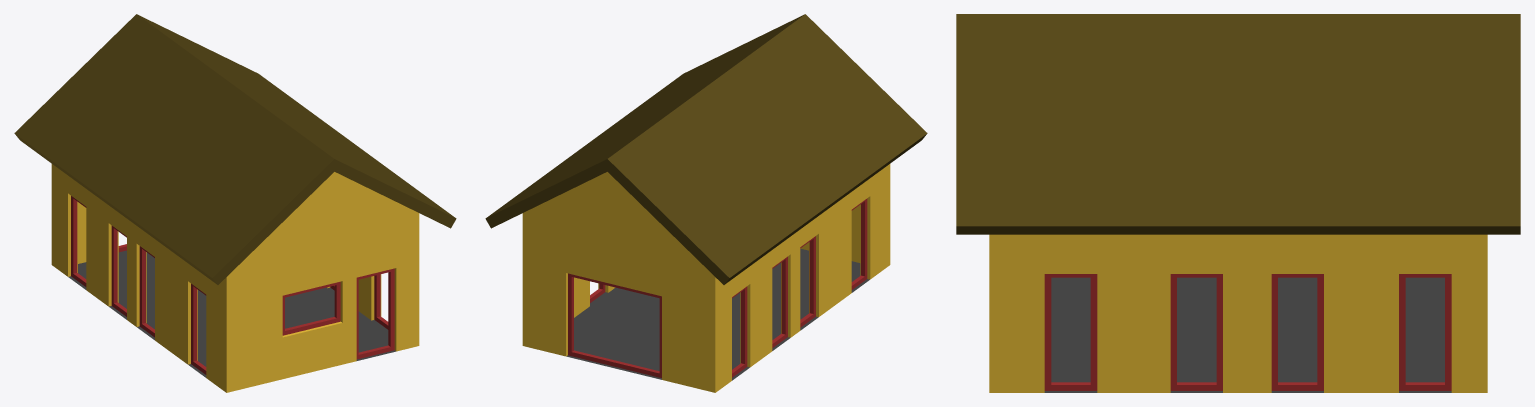
The model's file is result.dae.
3 views of the same model, side by side, from view 1: azimuth 30°, elevation 25°; view 2: azimuth 150°, elevation 25°; view 3: azimuth 270°, elevation 25° (orthographic). The views are drawn at different scales.
Parts seen in each view (by area): view 1: 3ee31686-562a-4b7b-be1c-79dd0ea0b5b9__undefined (×5), f857d849-a7a6-4a5d-857f-527702274b41__undefined (×6), b2d170fb-76db-4040-ad32-951acb1fc01f__Plane_20, 974e3863-8ec4-42b4-bb98-c8ce9de5f9a6__Box, 2bc2c8ec-c103-423c-ba08-38f536687481__Box_3; view 2: 3ee31686-562a-4b7b-be1c-79dd0ea0b5b9__undefined (×5), f857d849-a7a6-4a5d-857f-527702274b41__undefined (×6), b2d170fb-76db-4040-ad32-951acb1fc01f__Plane_20, 5941a5dd-84bb-4cdb-a101-3db3a077e376__Box_9; view 3: 3ee31686-562a-4b7b-be1c-79dd0ea0b5b9__undefined (×2), f857d849-a7a6-4a5d-857f-527702274b41__undefined, b2d170fb-76db-4040-ad32-951acb1fc01f__Plane_20, 532d15c6-f2c4-48d1-82f7-44b1105016ac__Box_36, 89a15a78-8dfd-4952-8899-b3036be1dd2e__Box_39, 6e3e27f0-be40-4cc2-86cd-bc5f4f82310d__Box_42, 91692eaf-e6b1-4f06-b1ba-47bd23c5430b__Box_45.
Boxes of the visible parts, x1,y1,x2,y2 form: 3ee31686-562a-4b7b-be1c-79dd0ea0b5b9__undefined (×5): (14,14,456,284); f857d849-a7a6-4a5d-857f-527702274b41__undefined (×6): (51,164,419,392); b2d170fb-76db-4040-ad32-951acb1fc01f__Plane_20: (68,250,395,377); 974e3863-8ec4-42b4-bb98-c8ce9de5f9a6__Box: (356,268,394,359); 2bc2c8ec-c103-423c-ba08-38f536687481__Box_3: (282,281,340,335); 3ee31686-562a-4b7b-be1c-79dd0ea0b5b9__undefined (×5): (485,14,927,284); f857d849-a7a6-4a5d-857f-527702274b41__undefined (×6): (522,164,890,392); b2d170fb-76db-4040-ad32-951acb1fc01f__Plane_20: (566,248,869,380); 5941a5dd-84bb-4cdb-a101-3db3a077e376__Box_9: (568,273,661,377); 3ee31686-562a-4b7b-be1c-79dd0ea0b5b9__undefined (×2): (956,14,1520,234); f857d849-a7a6-4a5d-857f-527702274b41__undefined: (989,234,1487,392); b2d170fb-76db-4040-ad32-951acb1fc01f__Plane_20: (1044,277,1451,392); 532d15c6-f2c4-48d1-82f7-44b1105016ac__Box_36: (1044,274,1097,390); 89a15a78-8dfd-4952-8899-b3036be1dd2e__Box_39: (1170,274,1222,390); 6e3e27f0-be40-4cc2-86cd-bc5f4f82310d__Box_42: (1271,274,1323,390); 91692eaf-e6b1-4f06-b1ba-47bd23c5430b__Box_45: (1399,274,1451,390).
Bounding box in the file's own units: 612 × 524 × 859.
